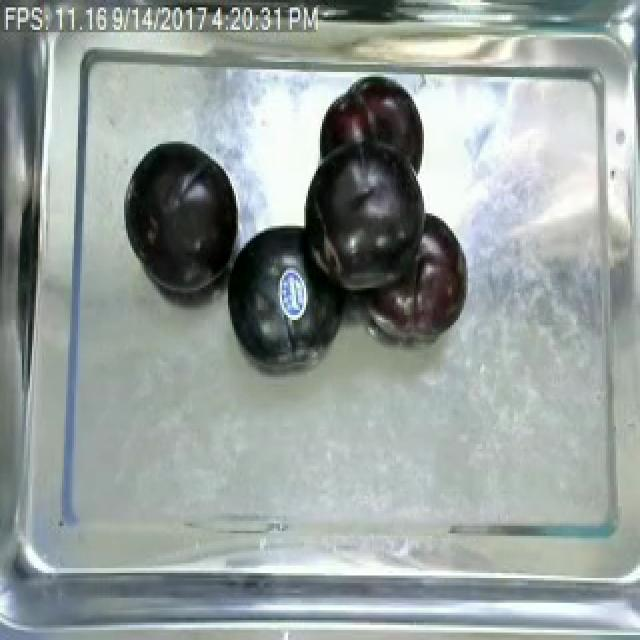Fruit: (212, 213, 356, 374), (118, 134, 248, 300), (384, 211, 474, 350)
